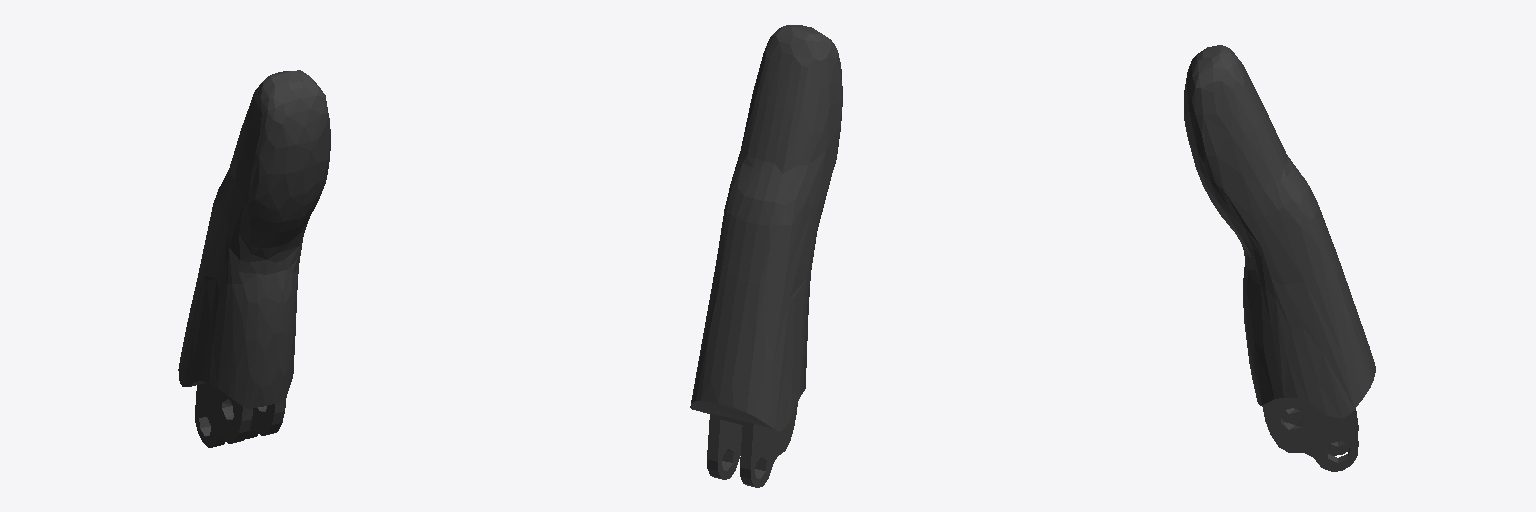
Rendered from R_middle_distal.obj.
3 views of the same model, side by side, from view 1: azimuth 30°, elevation 25°; view 2: azimuth 150°, elevation 25°; view 3: azimuth 270°, elevation 25° (orthographic).
Bounding box in the file's own units: 0.0126 × 0.0549 × 0.0233.